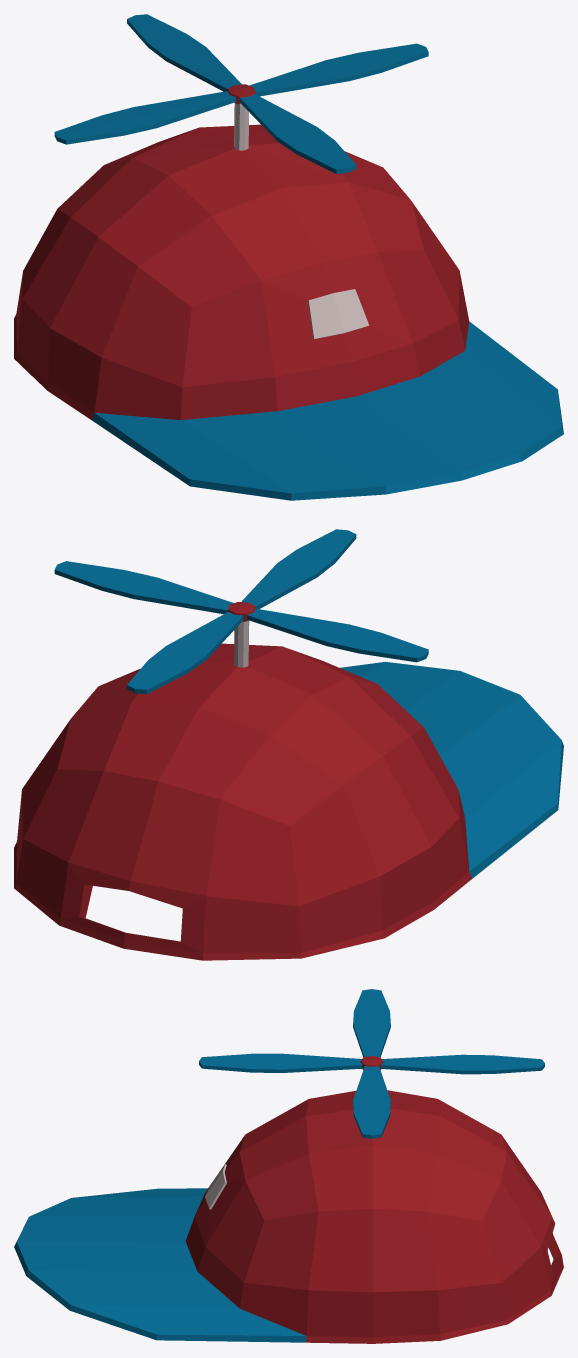
The model's file is helicopter_hat.fbx.
3 views of the same model, one above another, from view 1: azimuth 30°, elevation 25°; view 2: azimuth 150°, elevation 25°; view 3: azimuth 270°, elevation 25° (orthographic). The views are drawn at different scales.
Parts seen in each view (by area): view 1: Hat, Propellor; view 2: Hat, Propellor; view 3: Hat, Propellor.
Part boxes in pixels (x1,y1,x2,y2): Hat: (14,103,563,500); Propellor: (54,14,428,173); Hat: (14,620,563,960); Propellor: (54,529,428,694); Hat: (14,1090,563,1343); Propellor: (199,989,544,1138).
Bounding box in the file's own units: 6.77 × 4.28 × 10.27.
